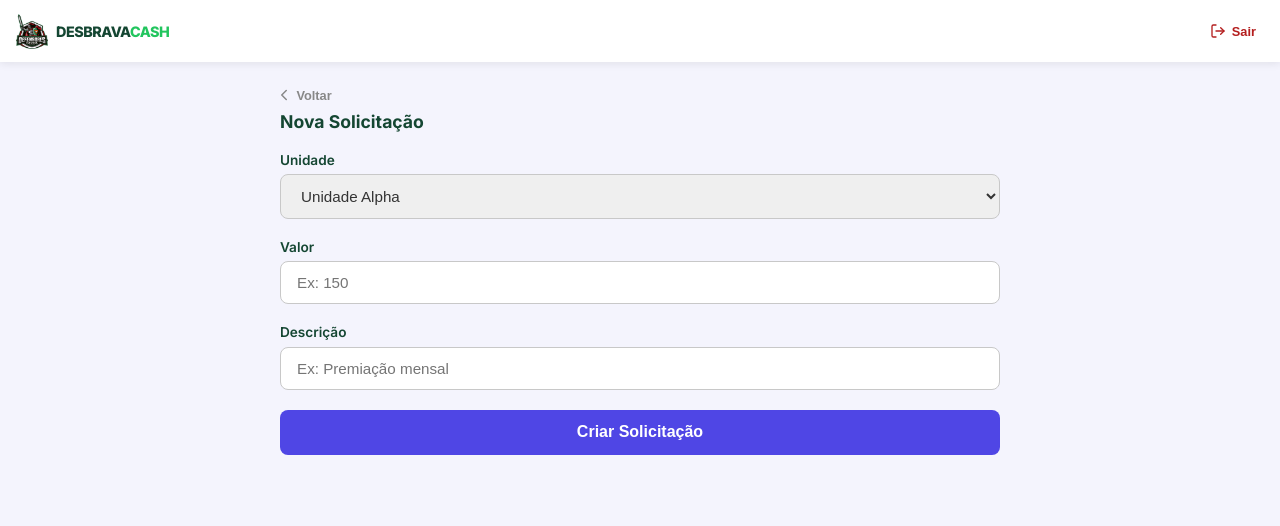
Test case: NovaTransacaoPage › exibe mensagem de erro quando criarSolicitacao falha
Type "50" into the number field labelled "Valor" at (640, 283), box x1=280 y1=261 x2=1000 y2=304
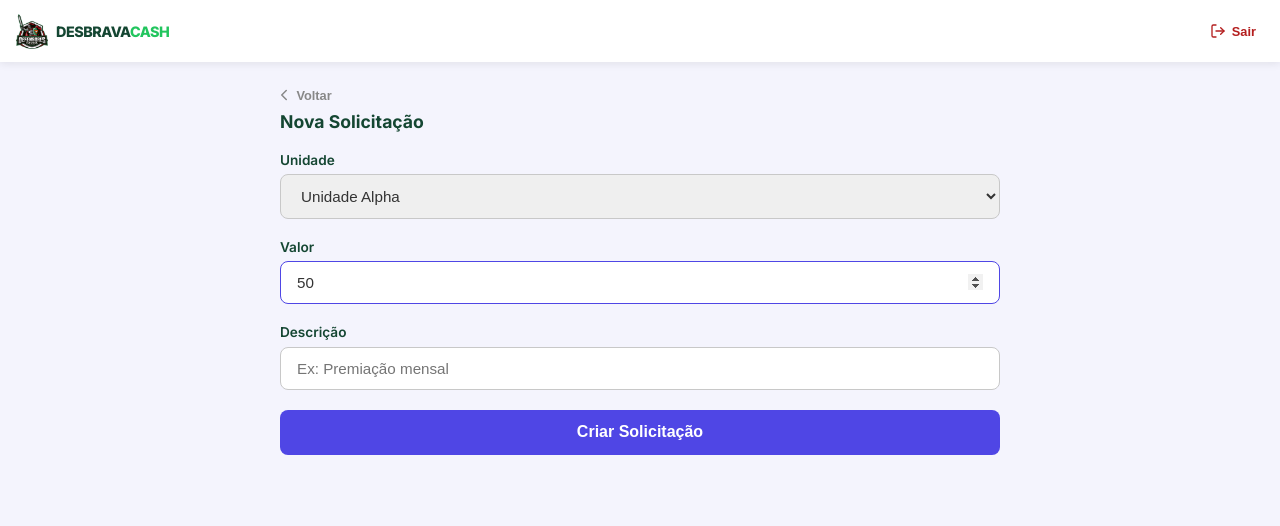
Type "Erro" into the field labelled "Descrição" at (640, 368), box x1=280 y1=347 x2=1000 y2=390
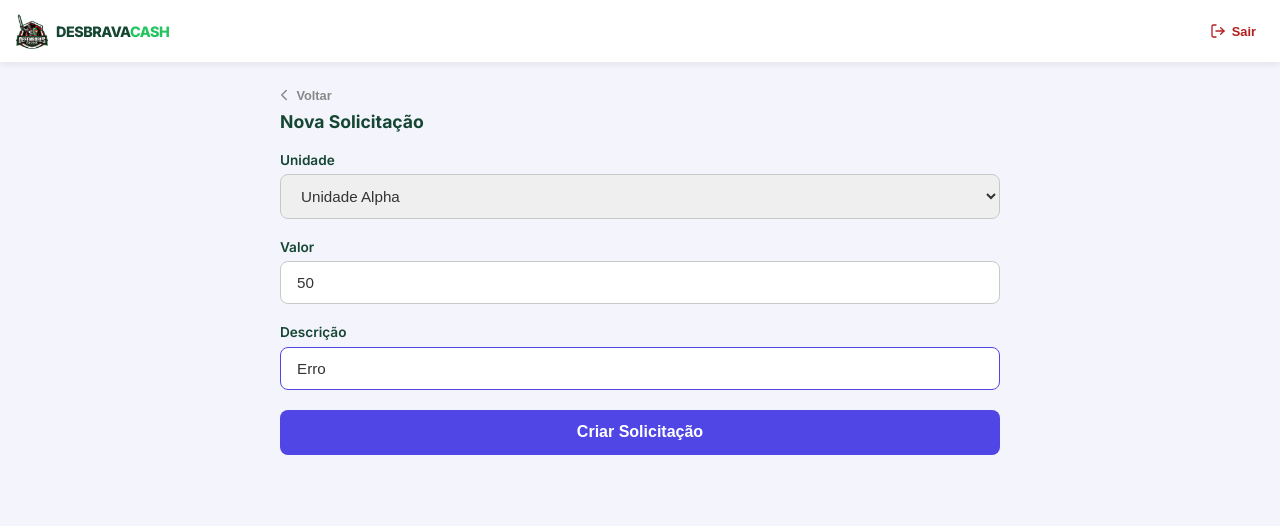
Click the button "Criar Solicitação" at (640, 432), box x1=280 y1=410 x2=1000 y2=455
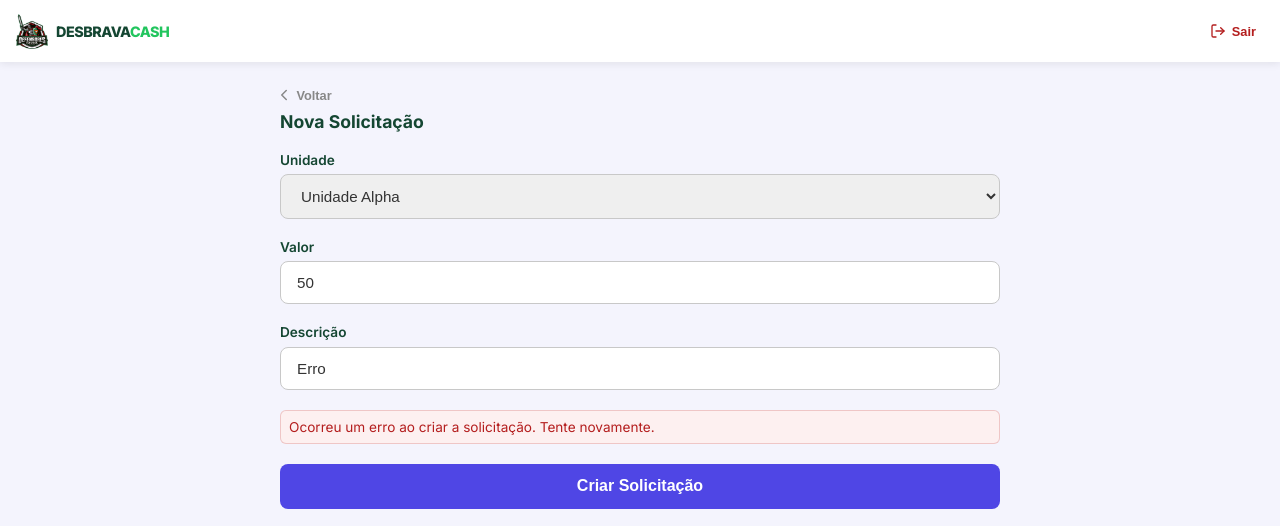
Expected: the text "Ocorreu um erro ao criar a solicitação. Tente novamente." is shown, x1=280 y1=410 x2=1000 y2=444
